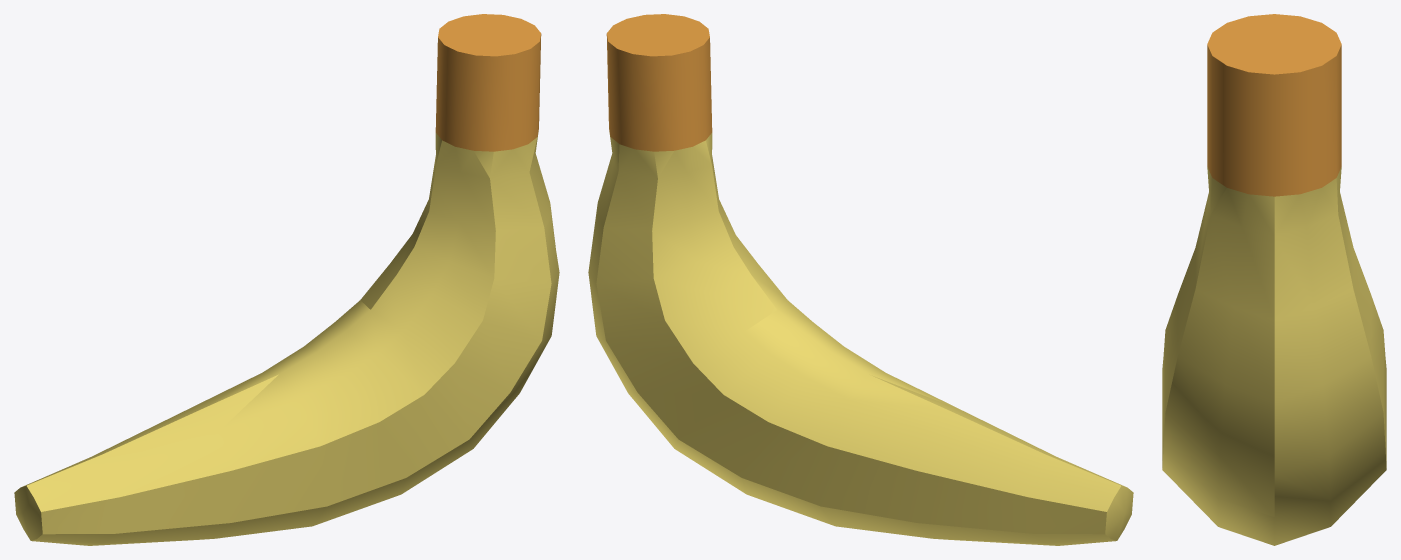
3 views of the same model, side by side, from view 1: azimuth 30°, elevation 25°; view 2: azimuth 150°, elevation 25°; view 3: azimuth 270°, elevation 25° (orthographic). The views are drawn at different scales.
Visible parts, largest first — view 1: SOLID-WHITE_012-material.082, SOLID-WHITE_012-material.001; view 2: SOLID-WHITE_012-material.082, SOLID-WHITE_012-material.001; view 3: SOLID-WHITE_012-material.082, SOLID-WHITE_012-material.001.
Boxes of the visible parts, x1,y1,x2,y2 form: SOLID-WHITE_012-material.082: (14,131,559,545); SOLID-WHITE_012-material.001: (435,14,541,151); SOLID-WHITE_012-material.082: (588,131,1133,545); SOLID-WHITE_012-material.001: (606,14,712,151); SOLID-WHITE_012-material.082: (1162,167,1386,545); SOLID-WHITE_012-material.001: (1207,14,1341,196).
Size of the model in its own units: 242 by 192 by 67.34.
